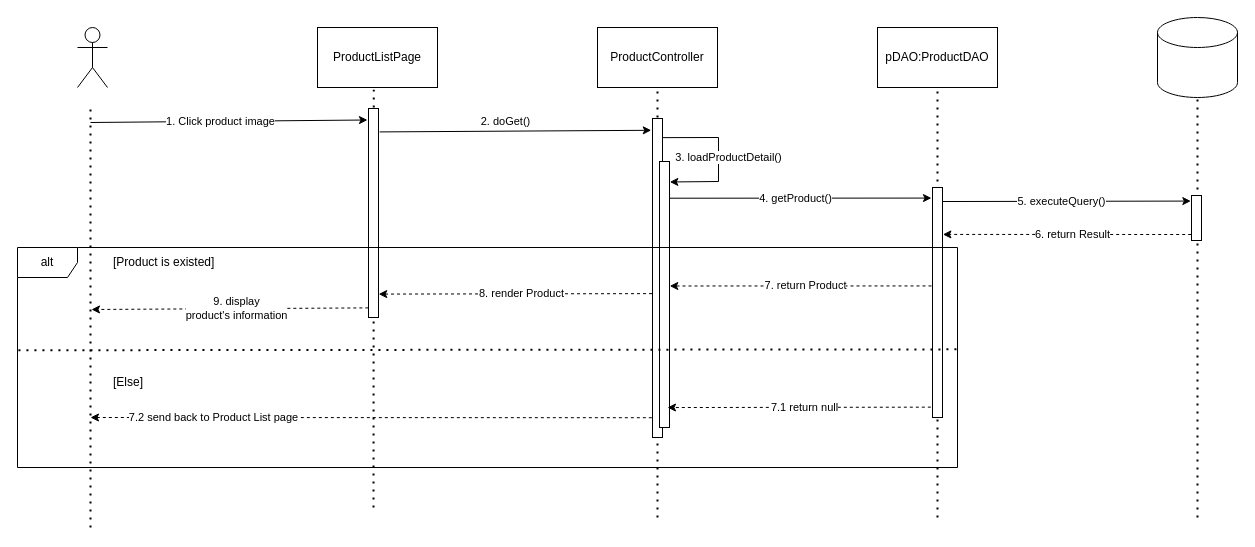
Some shapes in this 1255 by 547 pixel diagram are drawn without their labels. The shapes that lost their labels are listed below. From the top down, each one's box as (x1, y1, x2, y2) in pixels, then its label:
(76, 26, 108, 88): Customer
(1156, 16, 1238, 98): DB
